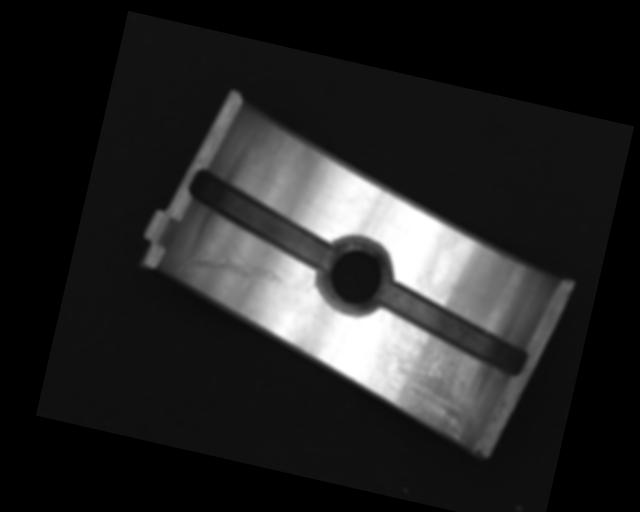gap: (177, 167, 345, 274), (367, 282, 537, 378)
hole: (313, 232, 397, 319)
nick: (173, 231, 289, 298)
scratch: (376, 331, 496, 450)
